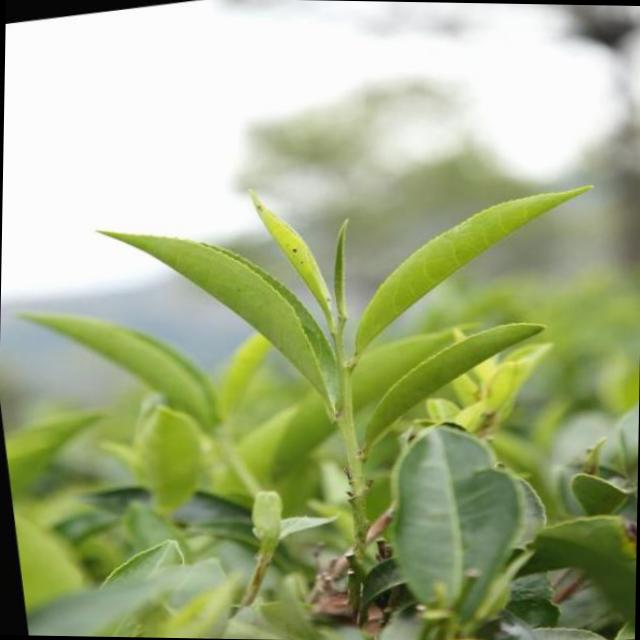Stem: (333, 332, 342, 347)
